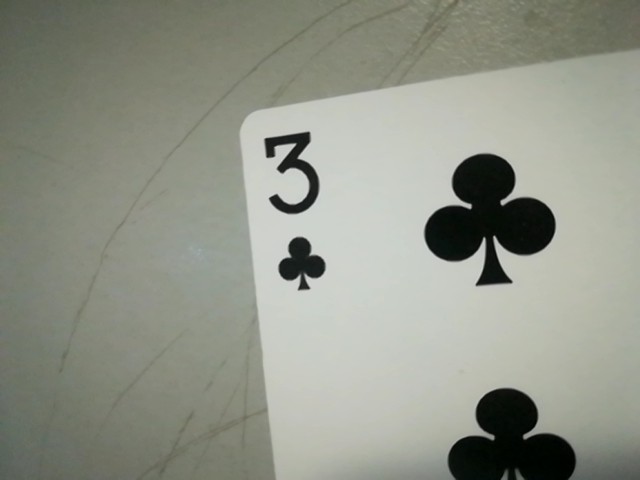mh 3: (249, 117, 340, 303)
